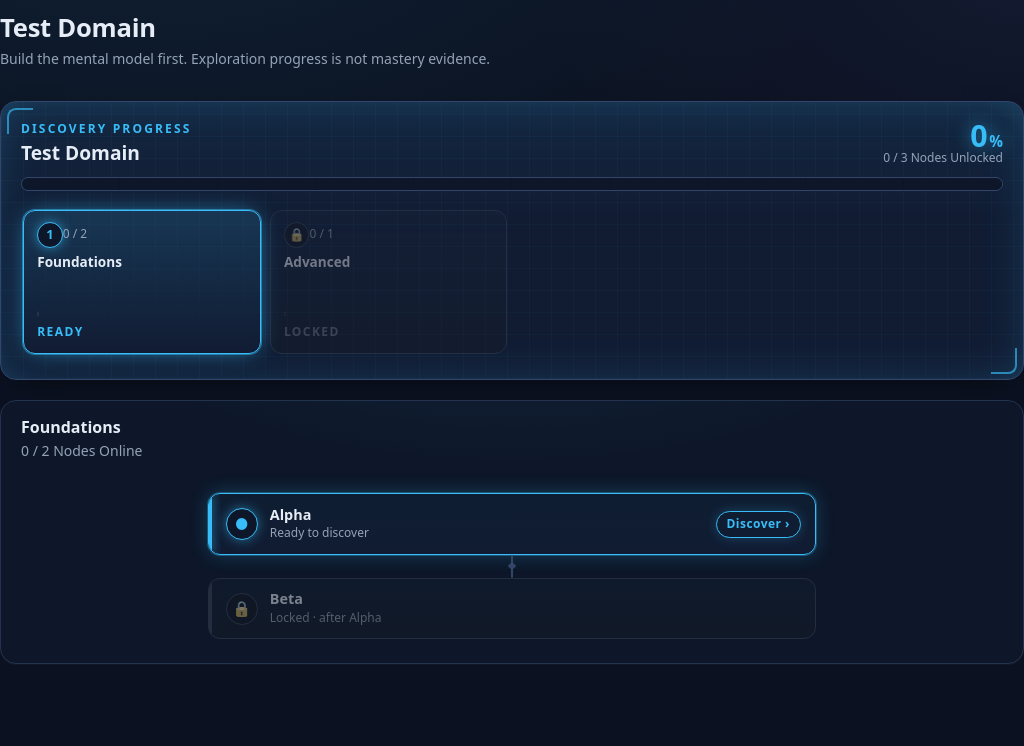
Test: DomainLearningPage › opens the dependent node after a prerequisite unlocks
The image size is (1024, 746).
Expected: the text "0 / 3 Nodes Unlocked" is shown, x1=883 y1=152 x2=1003 y2=165
What coordinates should you click on to do the following:
click the button with aria-label "Alpha, Ready to discover"
I would click on:
 (242, 524)
Its box is x1=208 y1=493 x2=816 y2=555.
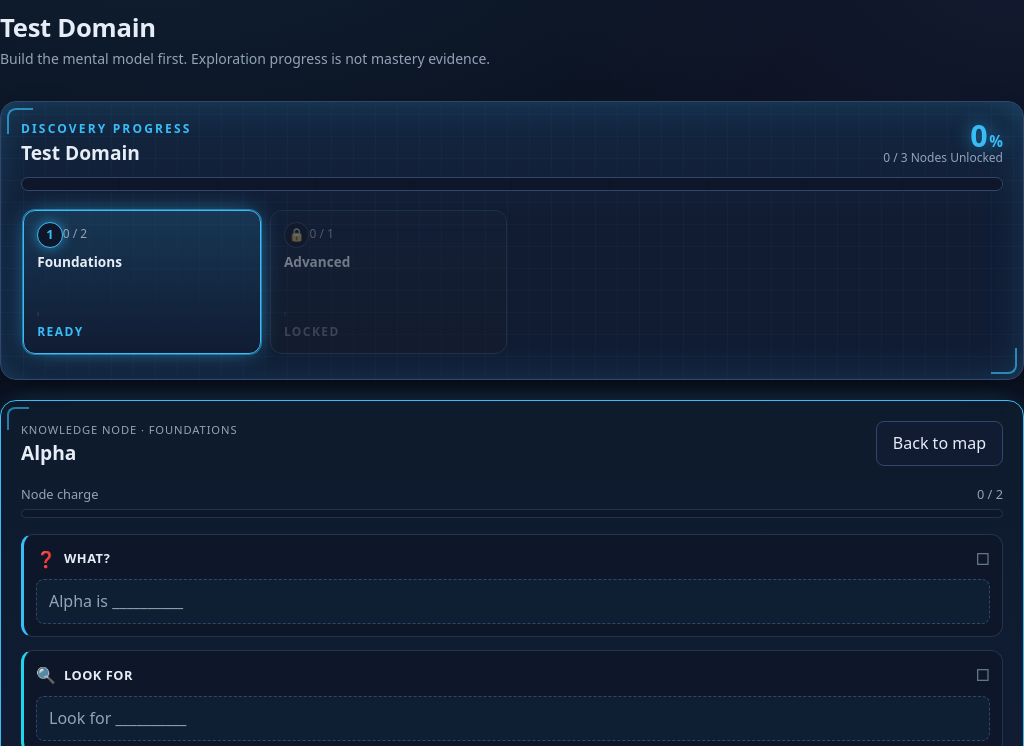
What coordinates should you click on to do the following:
click the button with aria-label "Reveal WHAT?"
I would click on:
 (116, 601)
Its box is x1=36 y1=580 x2=990 y2=624.
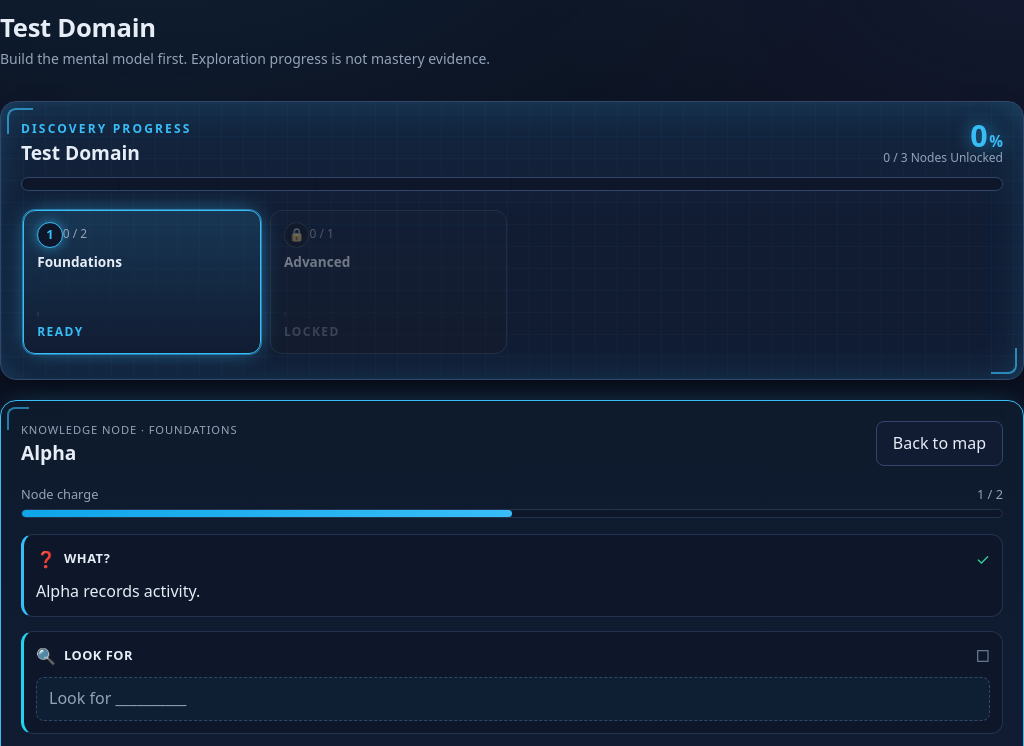
What coordinates should you click on to do the following:
click the button "Look for __________"
I would click on:
 (118, 698)
Its box is x1=36 y1=677 x2=990 y2=721.
(page scrolled)
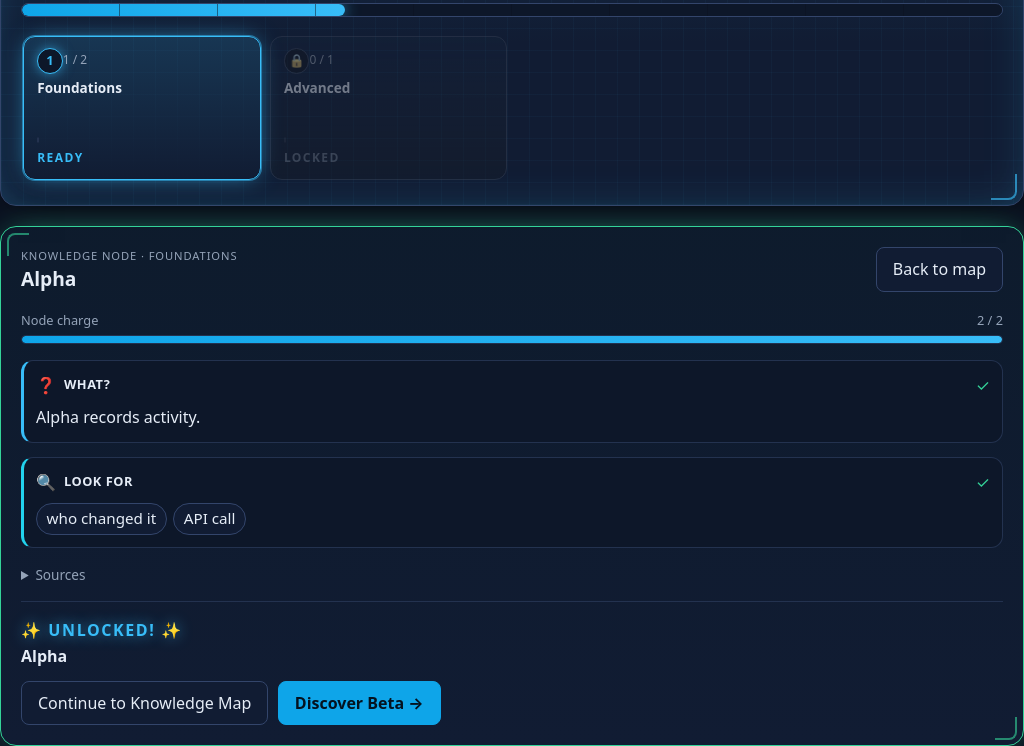
What coordinates should you click on to do the following:
click the button "Continue to Knowledge Map"
I would click on:
 (145, 703)
Its box is x1=21 y1=681 x2=268 y2=725.
(page scrolled)
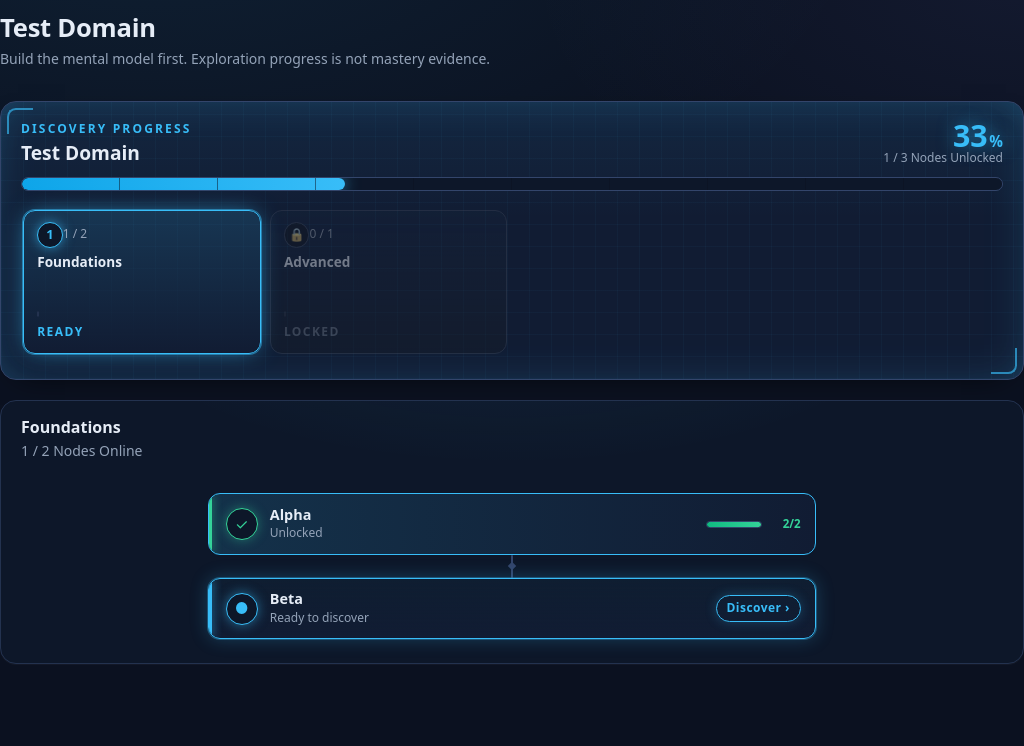
Expected: the button with aria-label "Beta, Ready to discover" is shown, x1=208 y1=578 x2=816 y2=639
